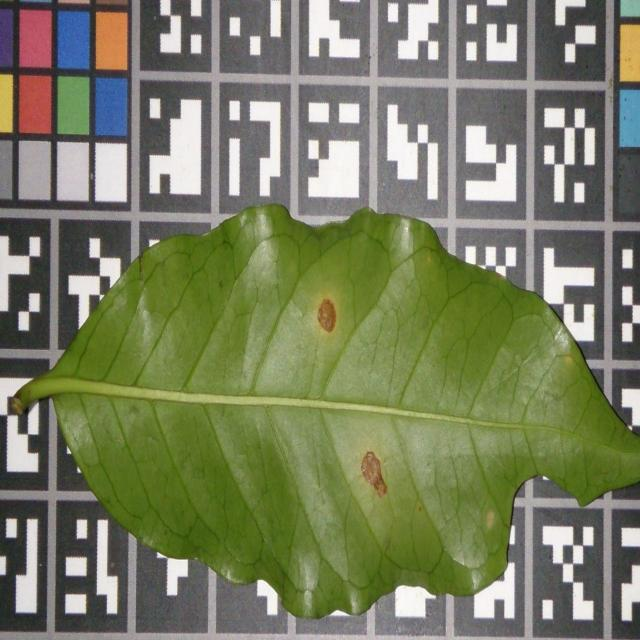Enfermedad-Mancha-de-hierro: (6, 204, 640, 622)
